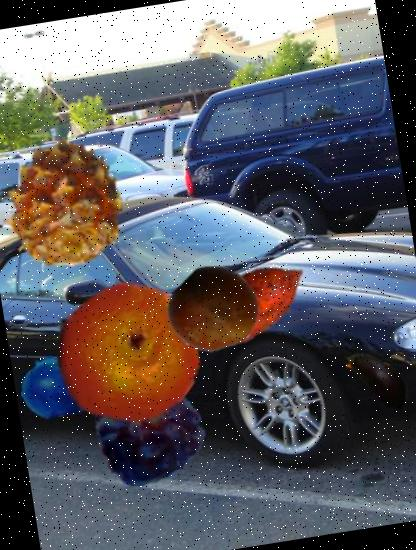Clementine: (40, 268, 209, 438)
Dates: (85, 366, 209, 490)
Eggplant: (336, 332, 416, 421)
Huckleberry: (15, 344, 100, 428)
Nut: (181, 233, 323, 375), (164, 260, 264, 360)
Pineapple: (0, 127, 139, 277)
